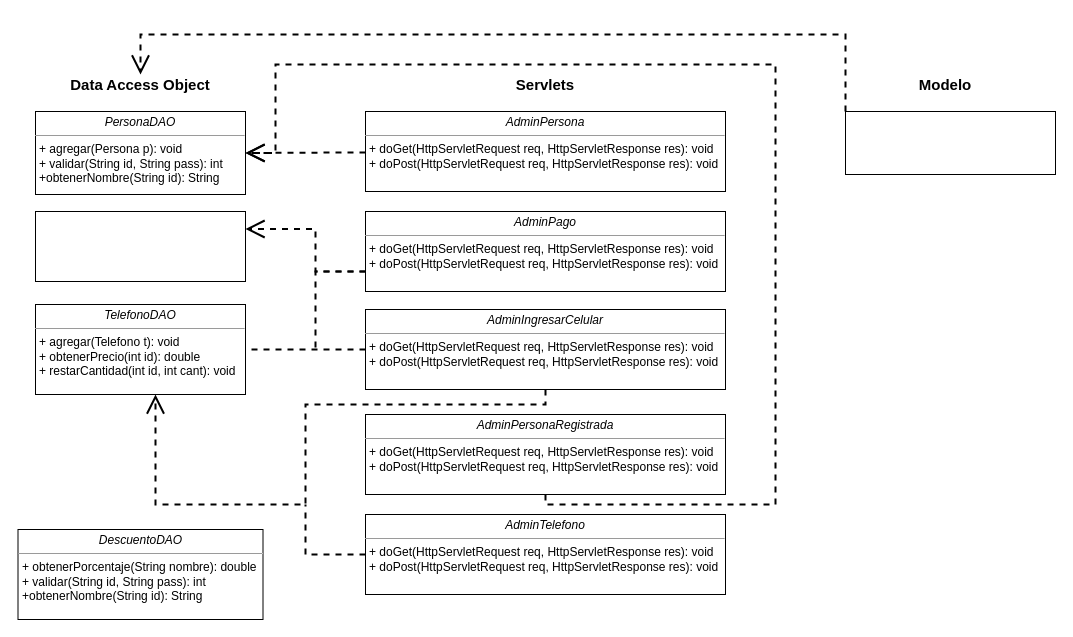
Image size: 1073x637. Some labels were removed from this diagram. Here are the shapes that lost their labels. From the top down, the box of each, then its label:
(844, 110, 1056, 174): DB + getConexion() : Connection
(34, 210, 246, 282): PagoDAO + agregar(Pago p): void + obtenerID(): int
